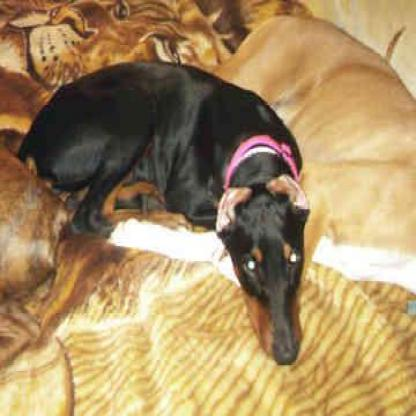Doberman: (14, 51, 314, 368)
